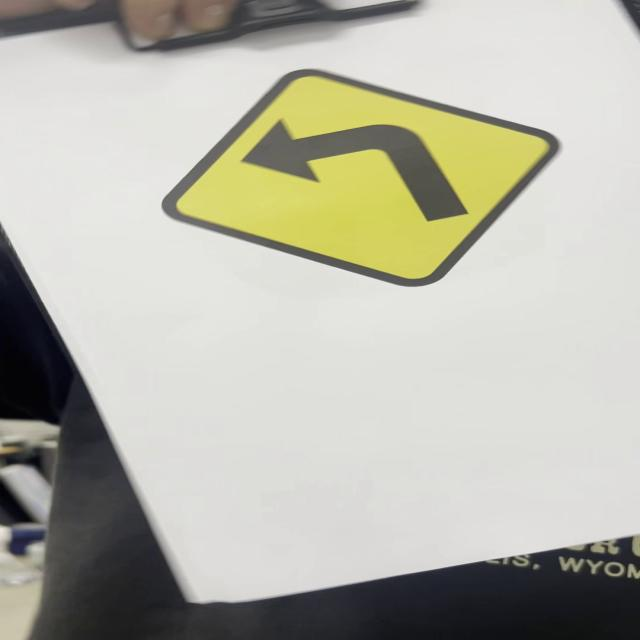left: (158, 72, 565, 289)
